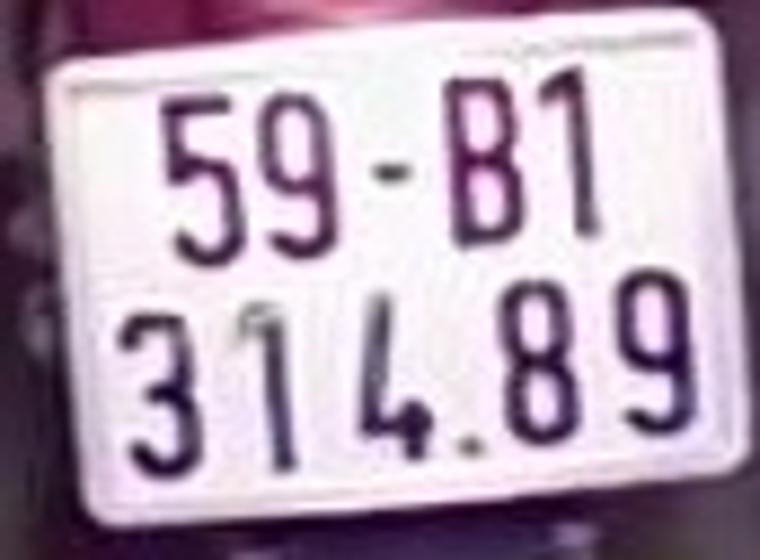-: (366, 151, 425, 197)
.: (451, 414, 490, 464)
1: (532, 52, 618, 254), (237, 297, 309, 481)
3: (107, 309, 213, 488)
4: (351, 280, 450, 474)
5: (144, 86, 251, 272)
8: (489, 271, 595, 450)
9: (610, 262, 708, 447), (254, 82, 345, 268)
B: (437, 71, 533, 252)
